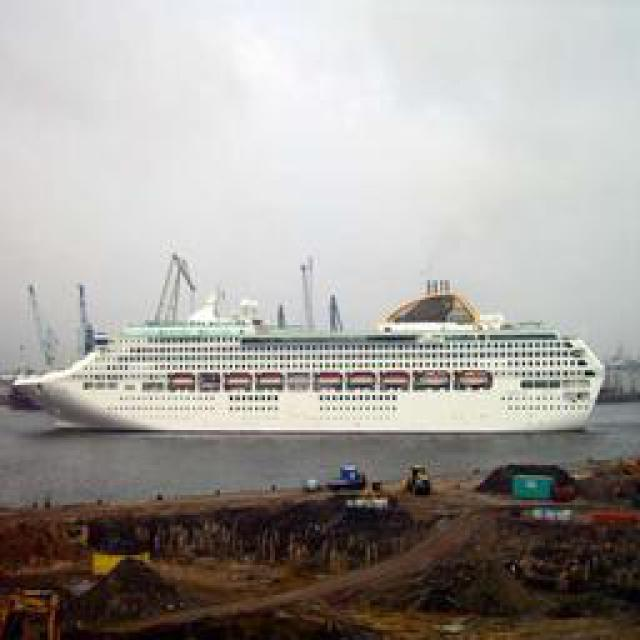Ship: (7, 267, 610, 465)
